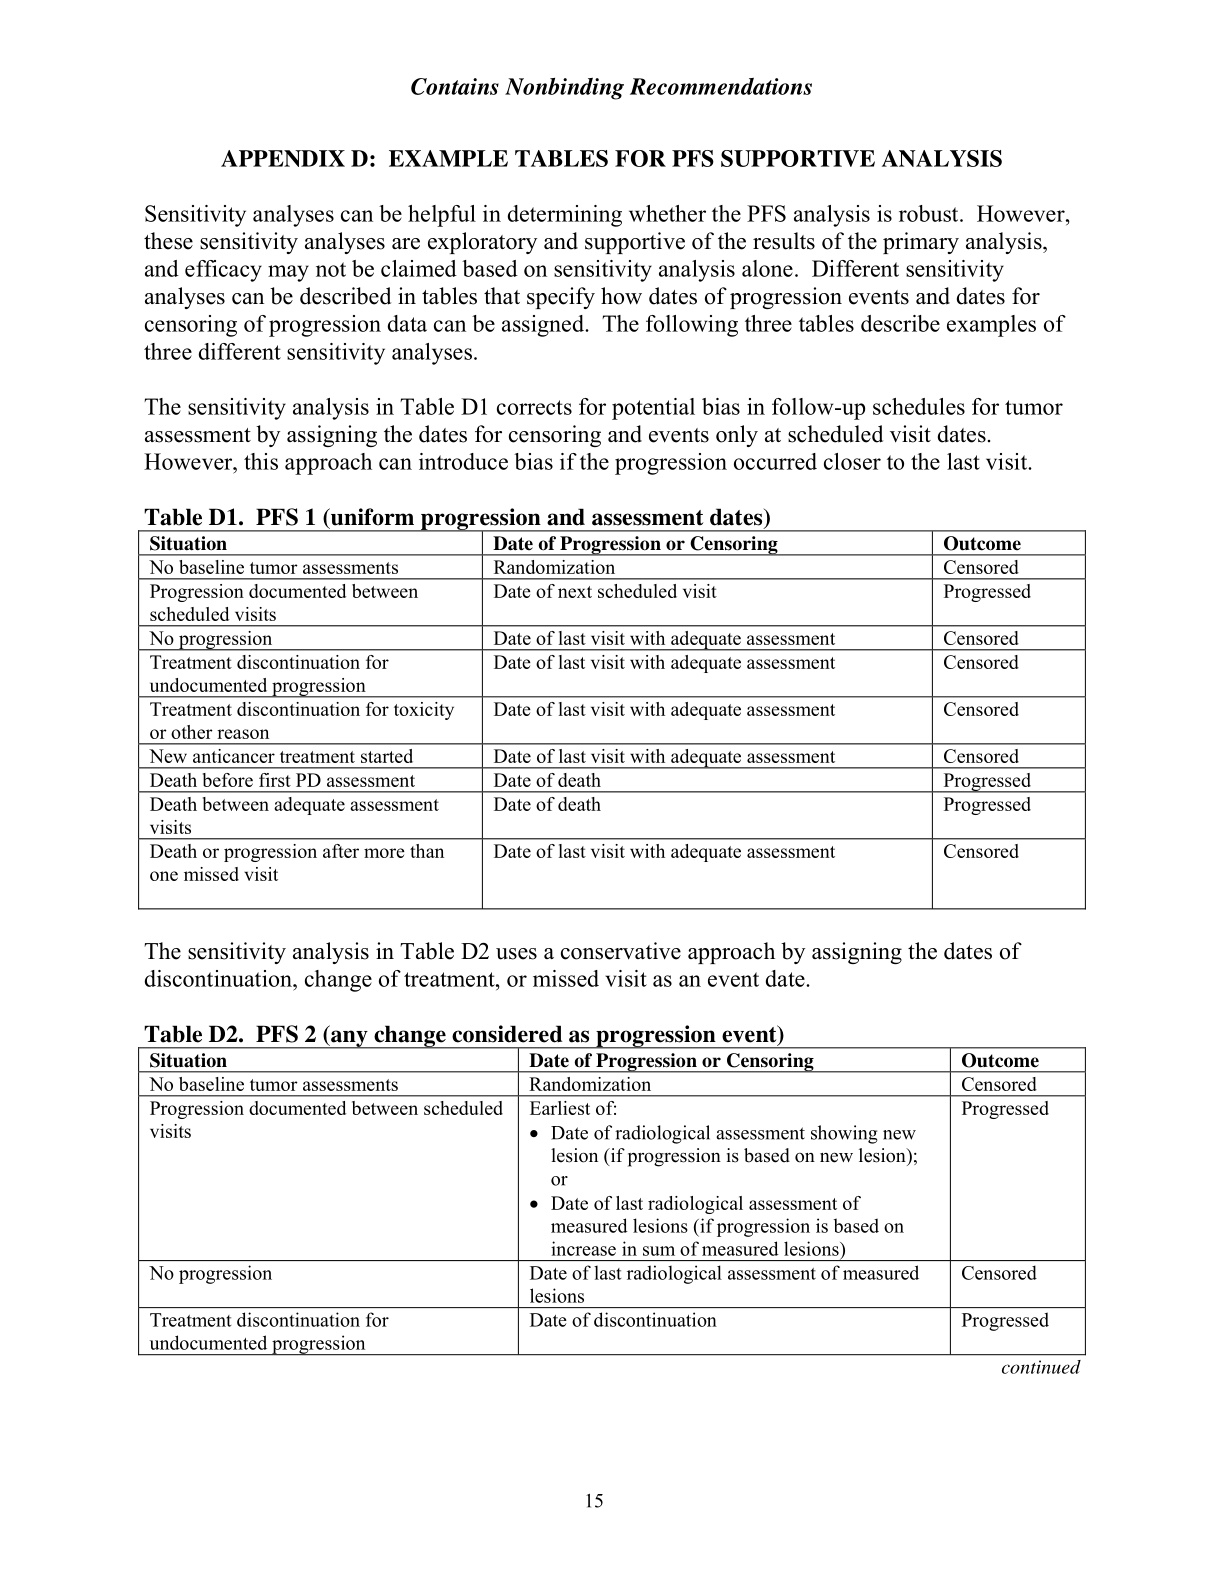full_lined: (138, 530, 1086, 910), (138, 1047, 1086, 1356)
